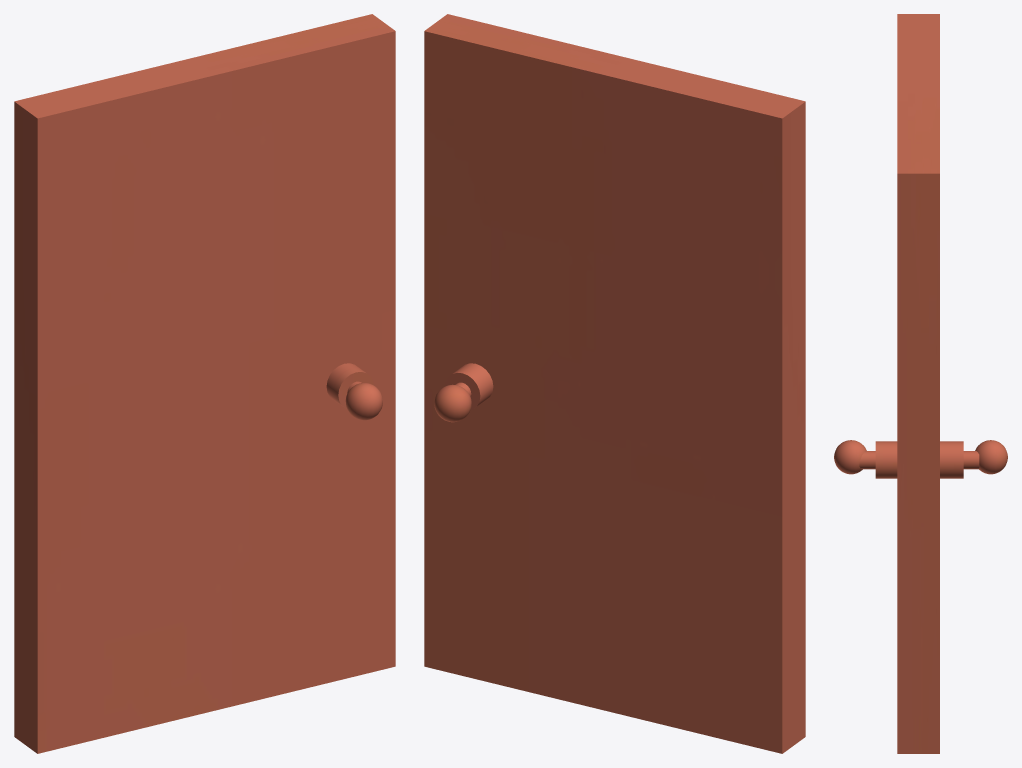
File: puerta.obj
3 renders of one model, left to right at view 1: azimuth 30°, elevation 25°; view 2: azimuth 150°, elevation 25°; view 3: azimuth 270°, elevation 25°, orthographic. The views are drawn at different scales.
Visible parts, largest first — view 1: pSphere3; view 2: pSphere3; view 3: pSphere3.
Part boxes in pixels (<box>): pSphere3: <box>14,14,395,753</box>; pSphere3: <box>424,14,805,753</box>; pSphere3: <box>834,14,1007,753</box>.
Size of the model in its own units: 2.47 by 4.19 by 1.14.
1 material, 1 textured.
